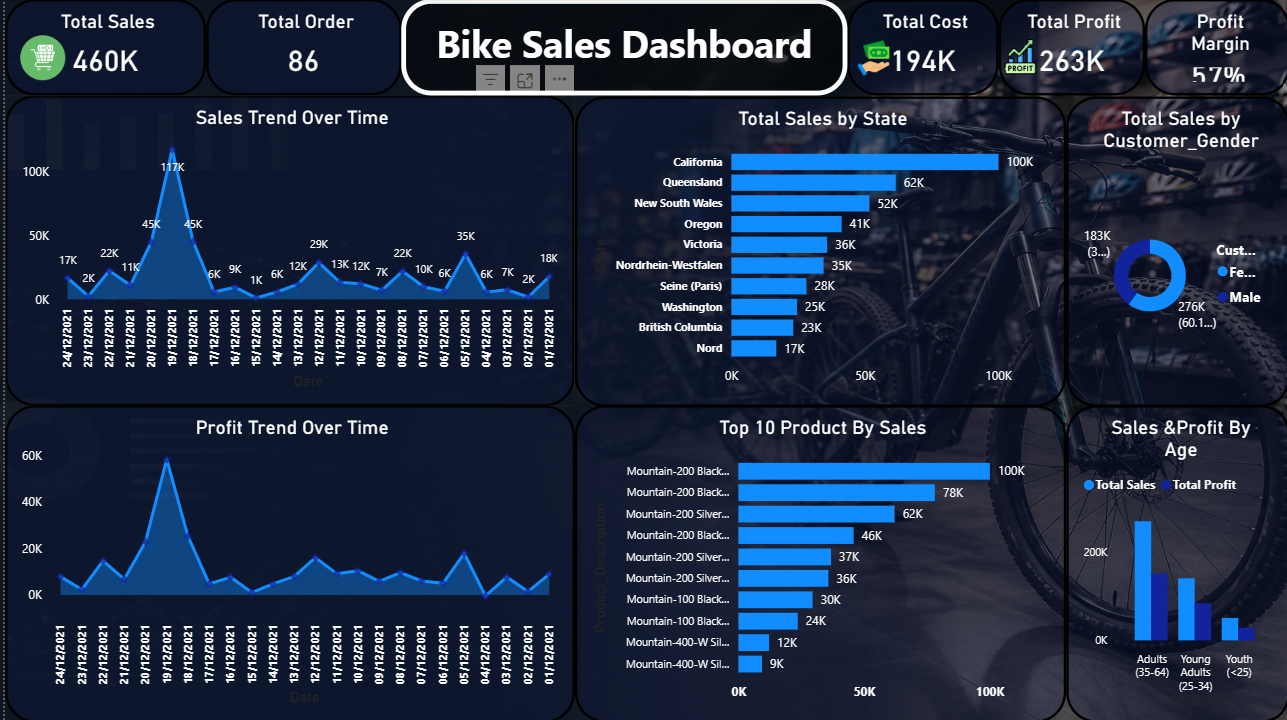

Layout of this report page (visuals, bound fields, positions):
{"tool":"powerbi","page":{"name":"Dashboard","canvas":[1280,720],"ordinal":0},"visuals":[{"type":"card","title":"Total Order","fields":{"Values":["Measure.Total Order"]},"box":[200.3,0,194.1,95.8],"z":0},{"type":"card","title":"Total Profit","fields":{"Values":["Measure.Total Profit"]},"box":[988.9,0,145.5,95.8],"z":1000},{"type":"card","title":"Total Sales","fields":{"Values":["Measure.Total Sales"]},"box":[0,0,200.3,95.8],"z":2000},{"type":"card","title":"Total Cost","fields":{"Values":["Measure.Total Cost"]},"box":[838.4,0,150.5,95.8],"z":3000},{"type":"card","title":"Profit Margin","fields":{"Values":["Measure.Profit Margin %"]},"box":[1134.5,0,145.5,95.8],"z":4000},{"type":"lineChart","title":"Sales Trend Over Time","fields":{"Y":["Measure.Total Sales"],"Category":["Bike Sales.Date"]},"box":[0,95.8,567.2,309.7],"z":5000},{"type":"stackedAreaChart","title":"Profit Trend Over Time","fields":{"Y":["Measure.Total Profit"],"Category":["Bike Sales.Date"]},"box":[0,404.3,567.2,316],"z":6000},{"type":"barChart","title":"Top 10 Product By Sales","fields":{"Category":["Bike Sales.Product_Description"],"Y":["Measure.Total Sales"]},"box":[567.2,404.3,488.9,316],"z":7000},{"type":"textbox","box":[394.3,0,444.1,95.8],"z":8000},{"type":"donutChart","fields":{"Y":["Measure.Total Sales"],"Category":["Bike Sales.Customer_Gender"]},"box":[1056.1,97,223.9,308.5],"z":9000},{"type":"clusteredColumnChart","title":"Sales &Profit By Age","fields":{"Y":["Measure.Total Sales","Measure.Total Profit"],"Category":["Bike Sales.Age_Group"]},"box":[1056.1,404.3,223.9,316],"z":10000},{"type":"clusteredBarChart","fields":{"Category":["Bike Sales.State"],"Y":["Measure.Total Sales"]},"box":[567.2,97,488.9,308.5],"z":11000},{"type":"image","box":[988.9,39.8,43.5,34.8],"z":12000},{"type":"image","box":[844.6,40.8,39.2,35.4],"z":13000},{"type":"image","box":[11.2,36.2,52.5,45],"z":14000}]}

Visuals, with their boxes in screenshot pixels (x1, y1, x2, y2), scaled from the page's 1280x720 canvas onto the 1287x720 screenshot:
"Total Order" card: crop(201, 0, 397, 96)
"Total Profit" card: crop(994, 0, 1141, 96)
"Total Sales" card: crop(0, 0, 201, 96)
"Total Cost" card: crop(843, 0, 994, 96)
"Profit Margin" card: crop(1141, 0, 1286, 96)
"Sales Trend Over Time" lineChart: crop(0, 96, 570, 406)
"Profit Trend Over Time" stackedAreaChart: crop(0, 404, 570, 719)
"Top 10 Product By Sales" barChart: crop(570, 404, 1062, 719)
textbox: crop(396, 0, 843, 96)
donutChart - Measure.Total Sales x Bike Sales.Customer_Gender: crop(1062, 97, 1286, 406)
"Sales &Profit By Age" clusteredColumnChart: crop(1062, 404, 1286, 719)
clusteredBarChart - Bike Sales.State x Measure.Total Sales: crop(570, 97, 1062, 406)
image: crop(994, 40, 1038, 75)
image: crop(849, 41, 889, 76)
image: crop(11, 36, 64, 81)
